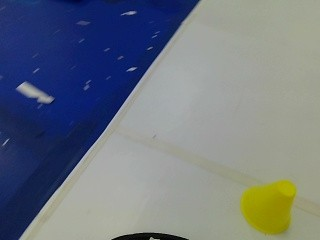cone: (237, 171, 297, 234)
